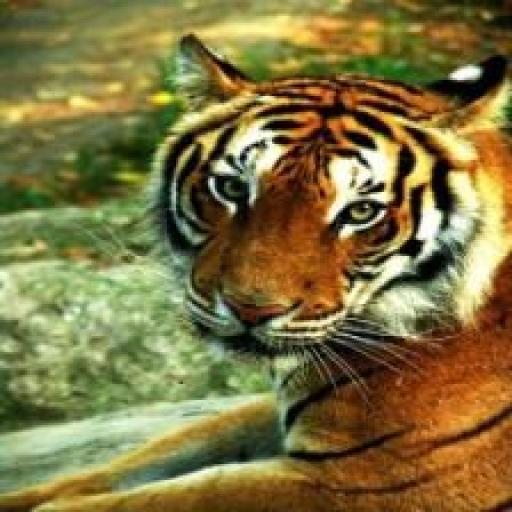Tiger: (0, 32, 512, 512)
